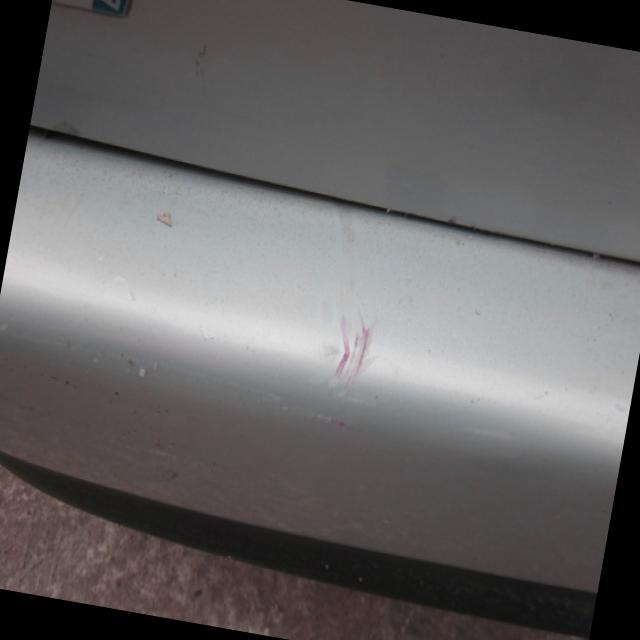Rayure: (313, 309, 406, 435)
